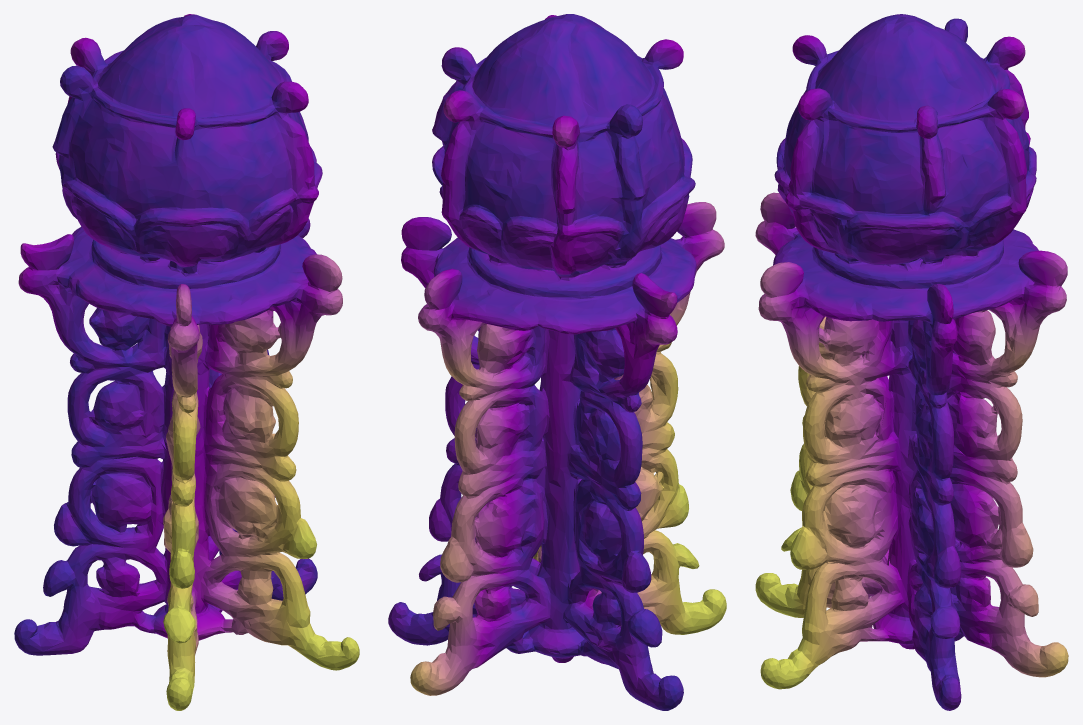
File: iter_16.glb
3 renders of one model, left to right at view 1: azimuth 30°, elevation 25°; view 2: azimuth 150°, elevation 25°; view 3: azimuth 270°, elevation 25°, orthographic.
Visible parts, largest first — view 1: textured_mesh; view 2: textured_mesh; view 3: textured_mesh.
Part boxes in pixels (<box>): textured_mesh: <box>14,14,359,710</box>; textured_mesh: <box>388,14,726,710</box>; textured_mesh: <box>755,14,1068,710</box>.
Size of the model in its own units: 0.9759 by 1.99 by 0.8991.
